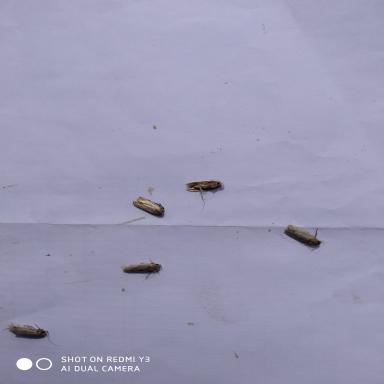pbw: (1, 320, 65, 348), (178, 174, 225, 210), (280, 221, 328, 252), (116, 258, 163, 282), (128, 194, 167, 217)
